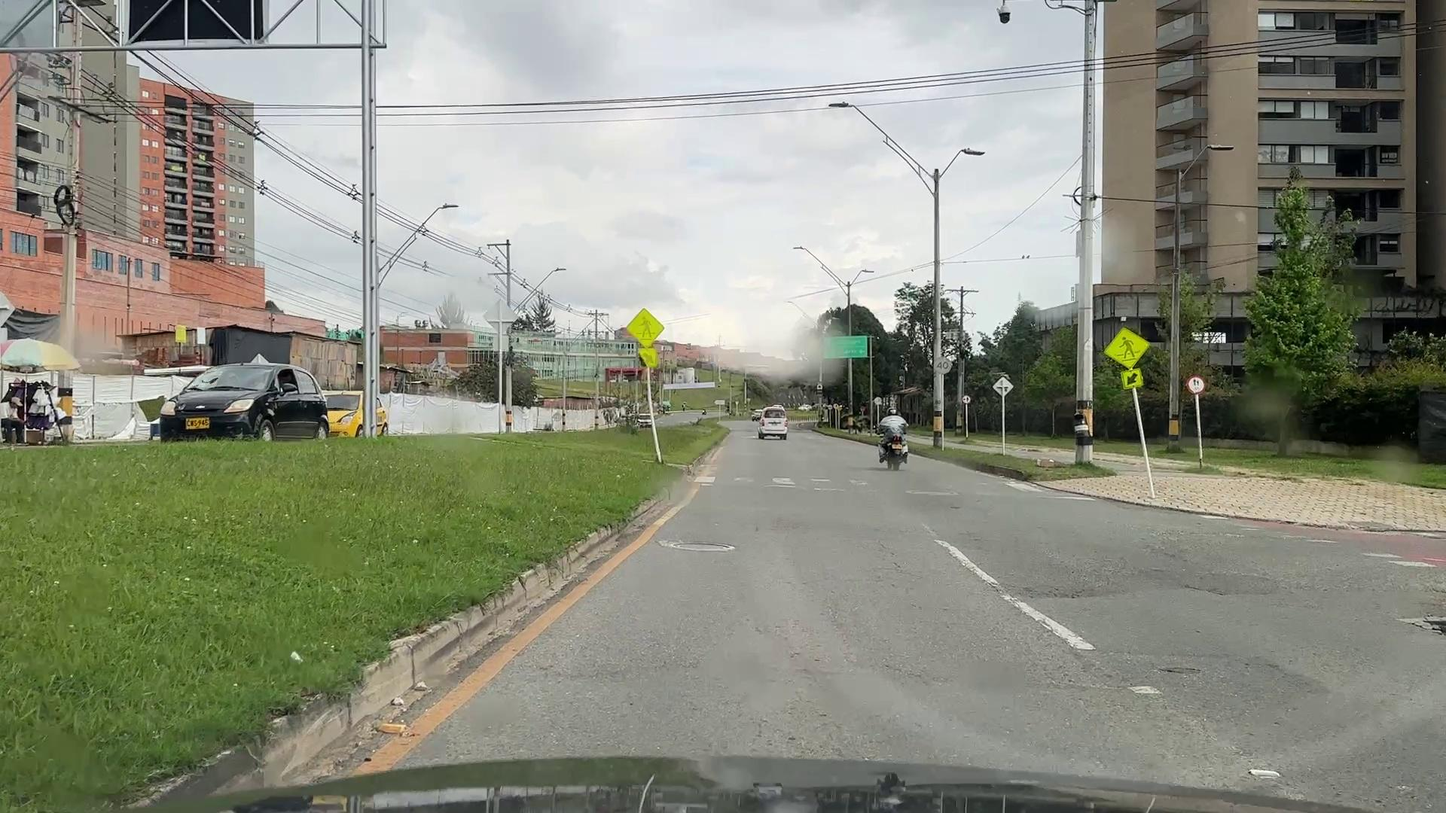bache: (1406, 620, 1445, 636)
registro: (674, 543, 730, 549)
